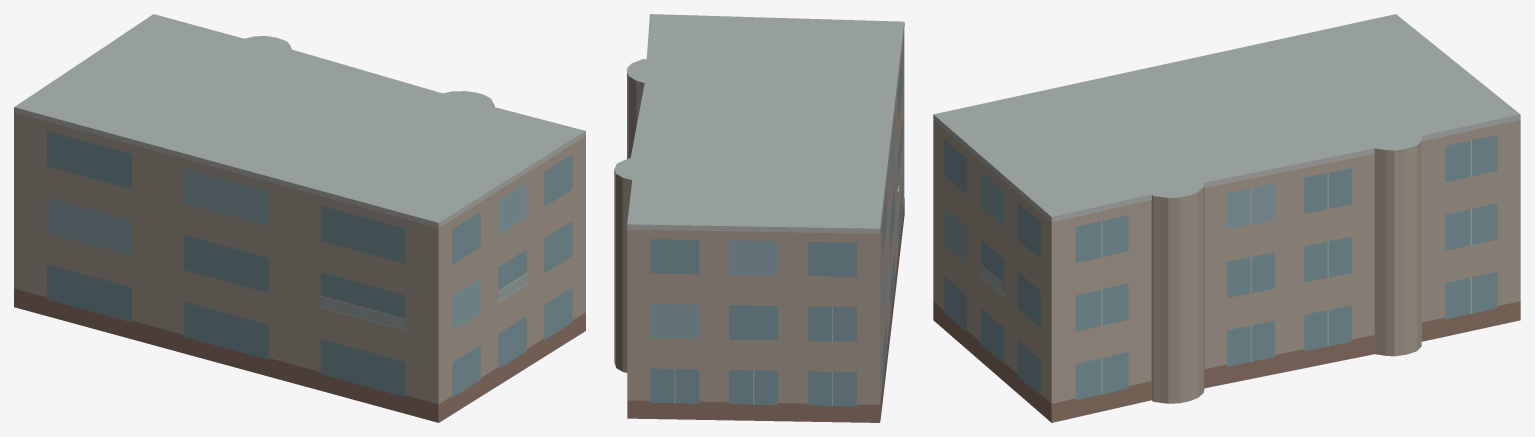
File: survey-upis-32915227.glb
3 views of the same model, side by side, from view 1: azimuth 30°, elevation 25°; view 2: azimuth 150°, elevation 25°; view 3: azimuth 270°, elevation 25° (orthographic). The views are drawn at different scales.
Parts seen in each view (by area): view 1: survey-upis-32915227.tmp; view 2: survey-upis-32915227.tmp; view 3: survey-upis-32915227.tmp.
Part boxes in pixels (x1,y1,x2,y2): survey-upis-32915227.tmp: (14, 14, 585, 422); survey-upis-32915227.tmp: (614, 14, 904, 422); survey-upis-32915227.tmp: (933, 14, 1520, 422).
Size of the model in its own units: 19.37 by 9.15 by 23.67.
